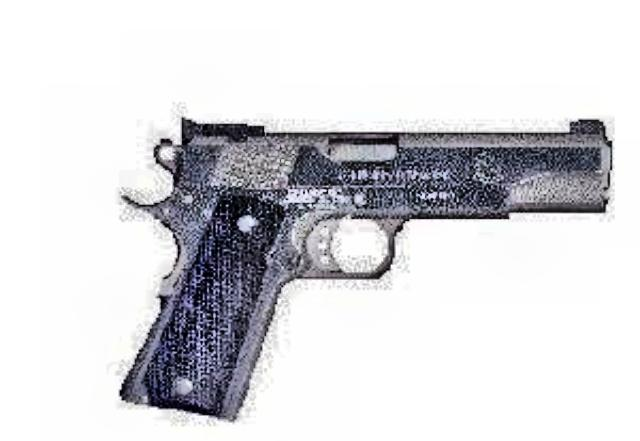pistol: (107, 116, 608, 414)
